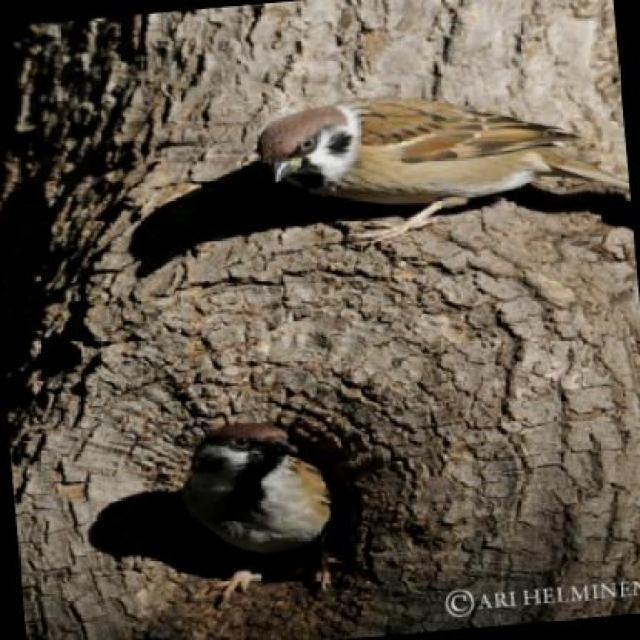Bird: (251, 84, 639, 219), (193, 411, 342, 594)
